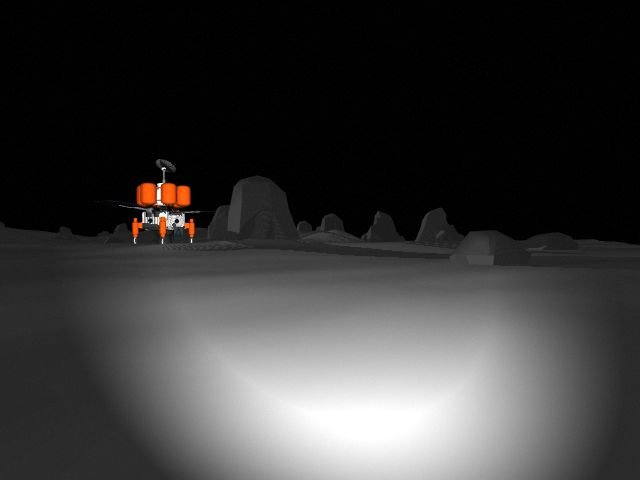homebase: (109, 155, 213, 250)
